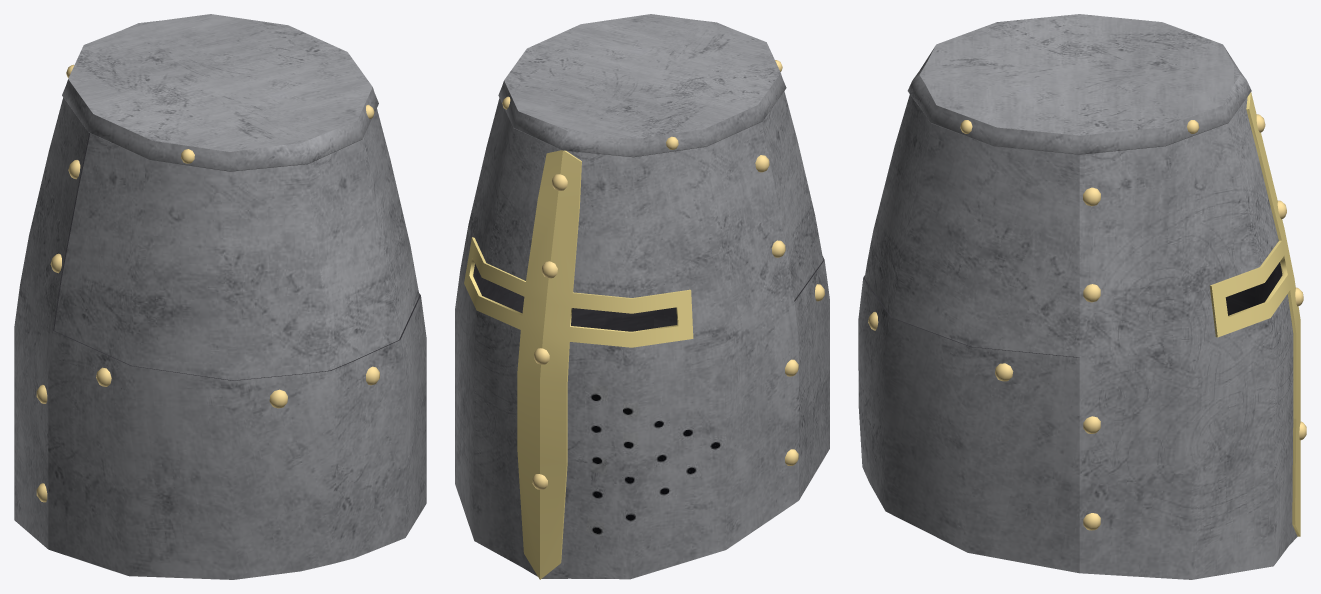
The model's file is ornate-helm.glb.
The picture shows the model from 3 angles, left to right: view 1: azimuth 30°, elevation 25°; view 2: azimuth 150°, elevation 25°; view 3: azimuth 270°, elevation 25°; orthographic projection. The views are drawn at different scales.
Visible parts, largest first — view 1: PIECE_ornate-helm; view 2: PIECE_ornate-helm; view 3: PIECE_ornate-helm.
Boxes of the visible parts, <box> form: PIECE_ornate-helm: <box>14,14,426,579</box>; PIECE_ornate-helm: <box>455,14,829,579</box>; PIECE_ornate-helm: <box>858,14,1306,579</box>.
Size of the model in its own units: 1 by 1.28 by 1.12.
Materials: 6 (6 with a texture image).
